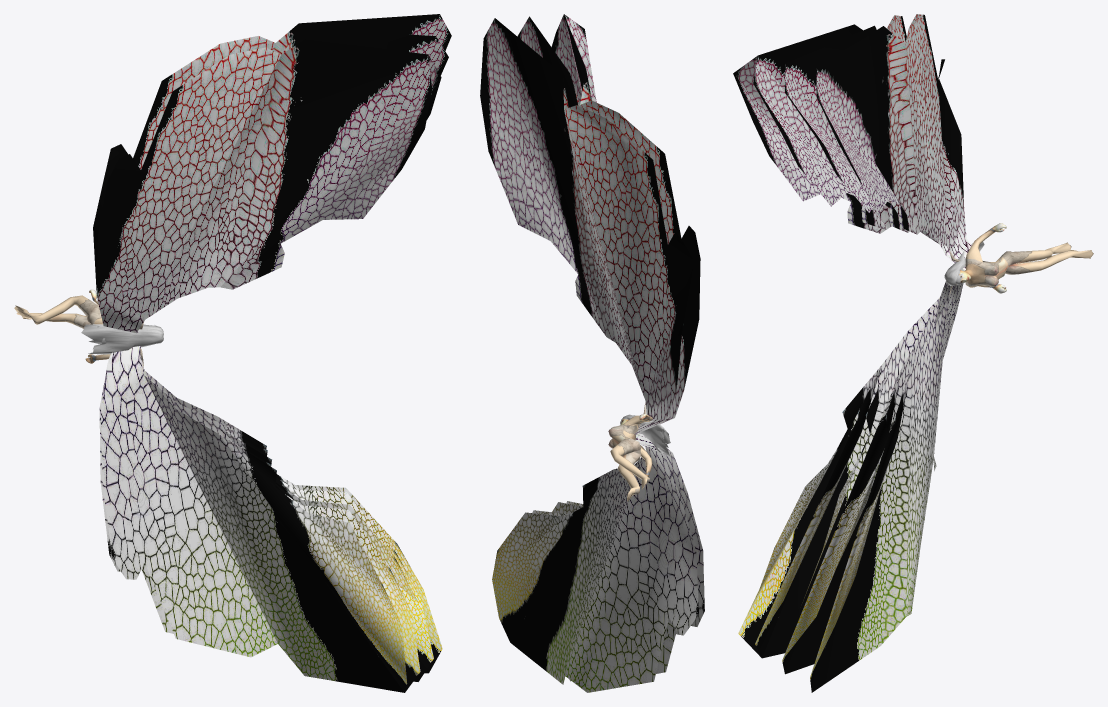
File: angel_000210.obj
3 renders of one model, left to right at view 1: azimuth 30°, elevation 25°; view 2: azimuth 150°, elevation 25°; view 3: azimuth 270°, elevation 25°, orthographic. The views are drawn at different scales.
Parts seen in each view (by area): view 1: wings_Plane.001, body.001_omino.012, hair.003_omino.013; view 2: wings_Plane.001, body.001_omino.012, hair.003_omino.013; view 3: wings_Plane.001, body.001_omino.012.
Part boxes in pixels (x1,y1,x2,y2): wings_Plane.001: (93, 14, 451, 692); body.001_omino.012: (14, 289, 143, 365); hair.003_omino.013: (81, 324, 163, 354); wings_Plane.001: (480, 14, 704, 692); body.001_omino.012: (608, 402, 652, 501); hair.003_omino.013: (620, 414, 671, 457); wings_Plane.001: (733, 14, 971, 692); body.001_omino.012: (949, 223, 1093, 295).
Size of the model in its own units: 5.74 by 11.92 by 6.17.
